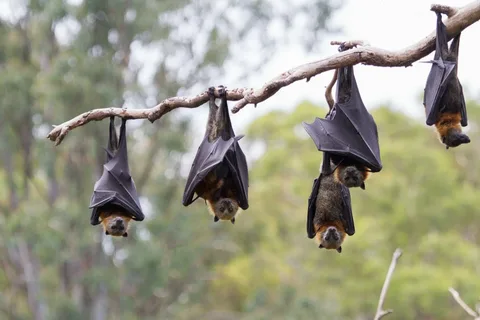bats: (176, 80, 268, 237), (79, 101, 157, 249), (310, 41, 388, 188), (417, 5, 477, 156), (298, 150, 374, 266)
